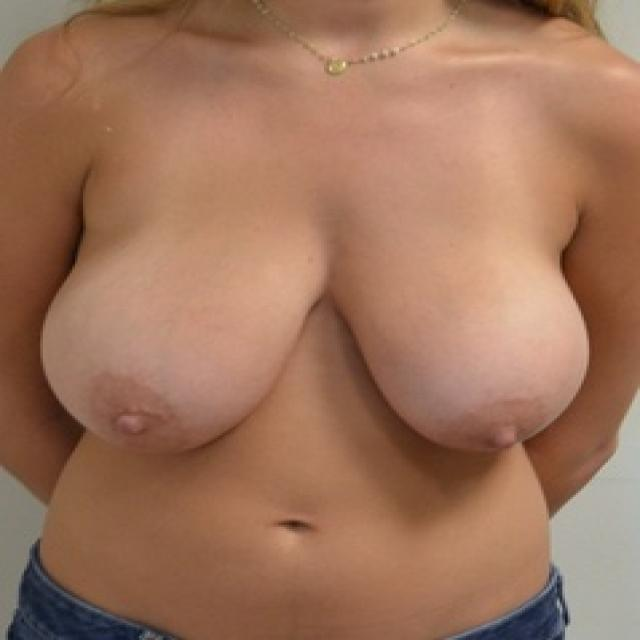Seno ileso: (33, 194, 326, 471), (328, 194, 597, 469)
